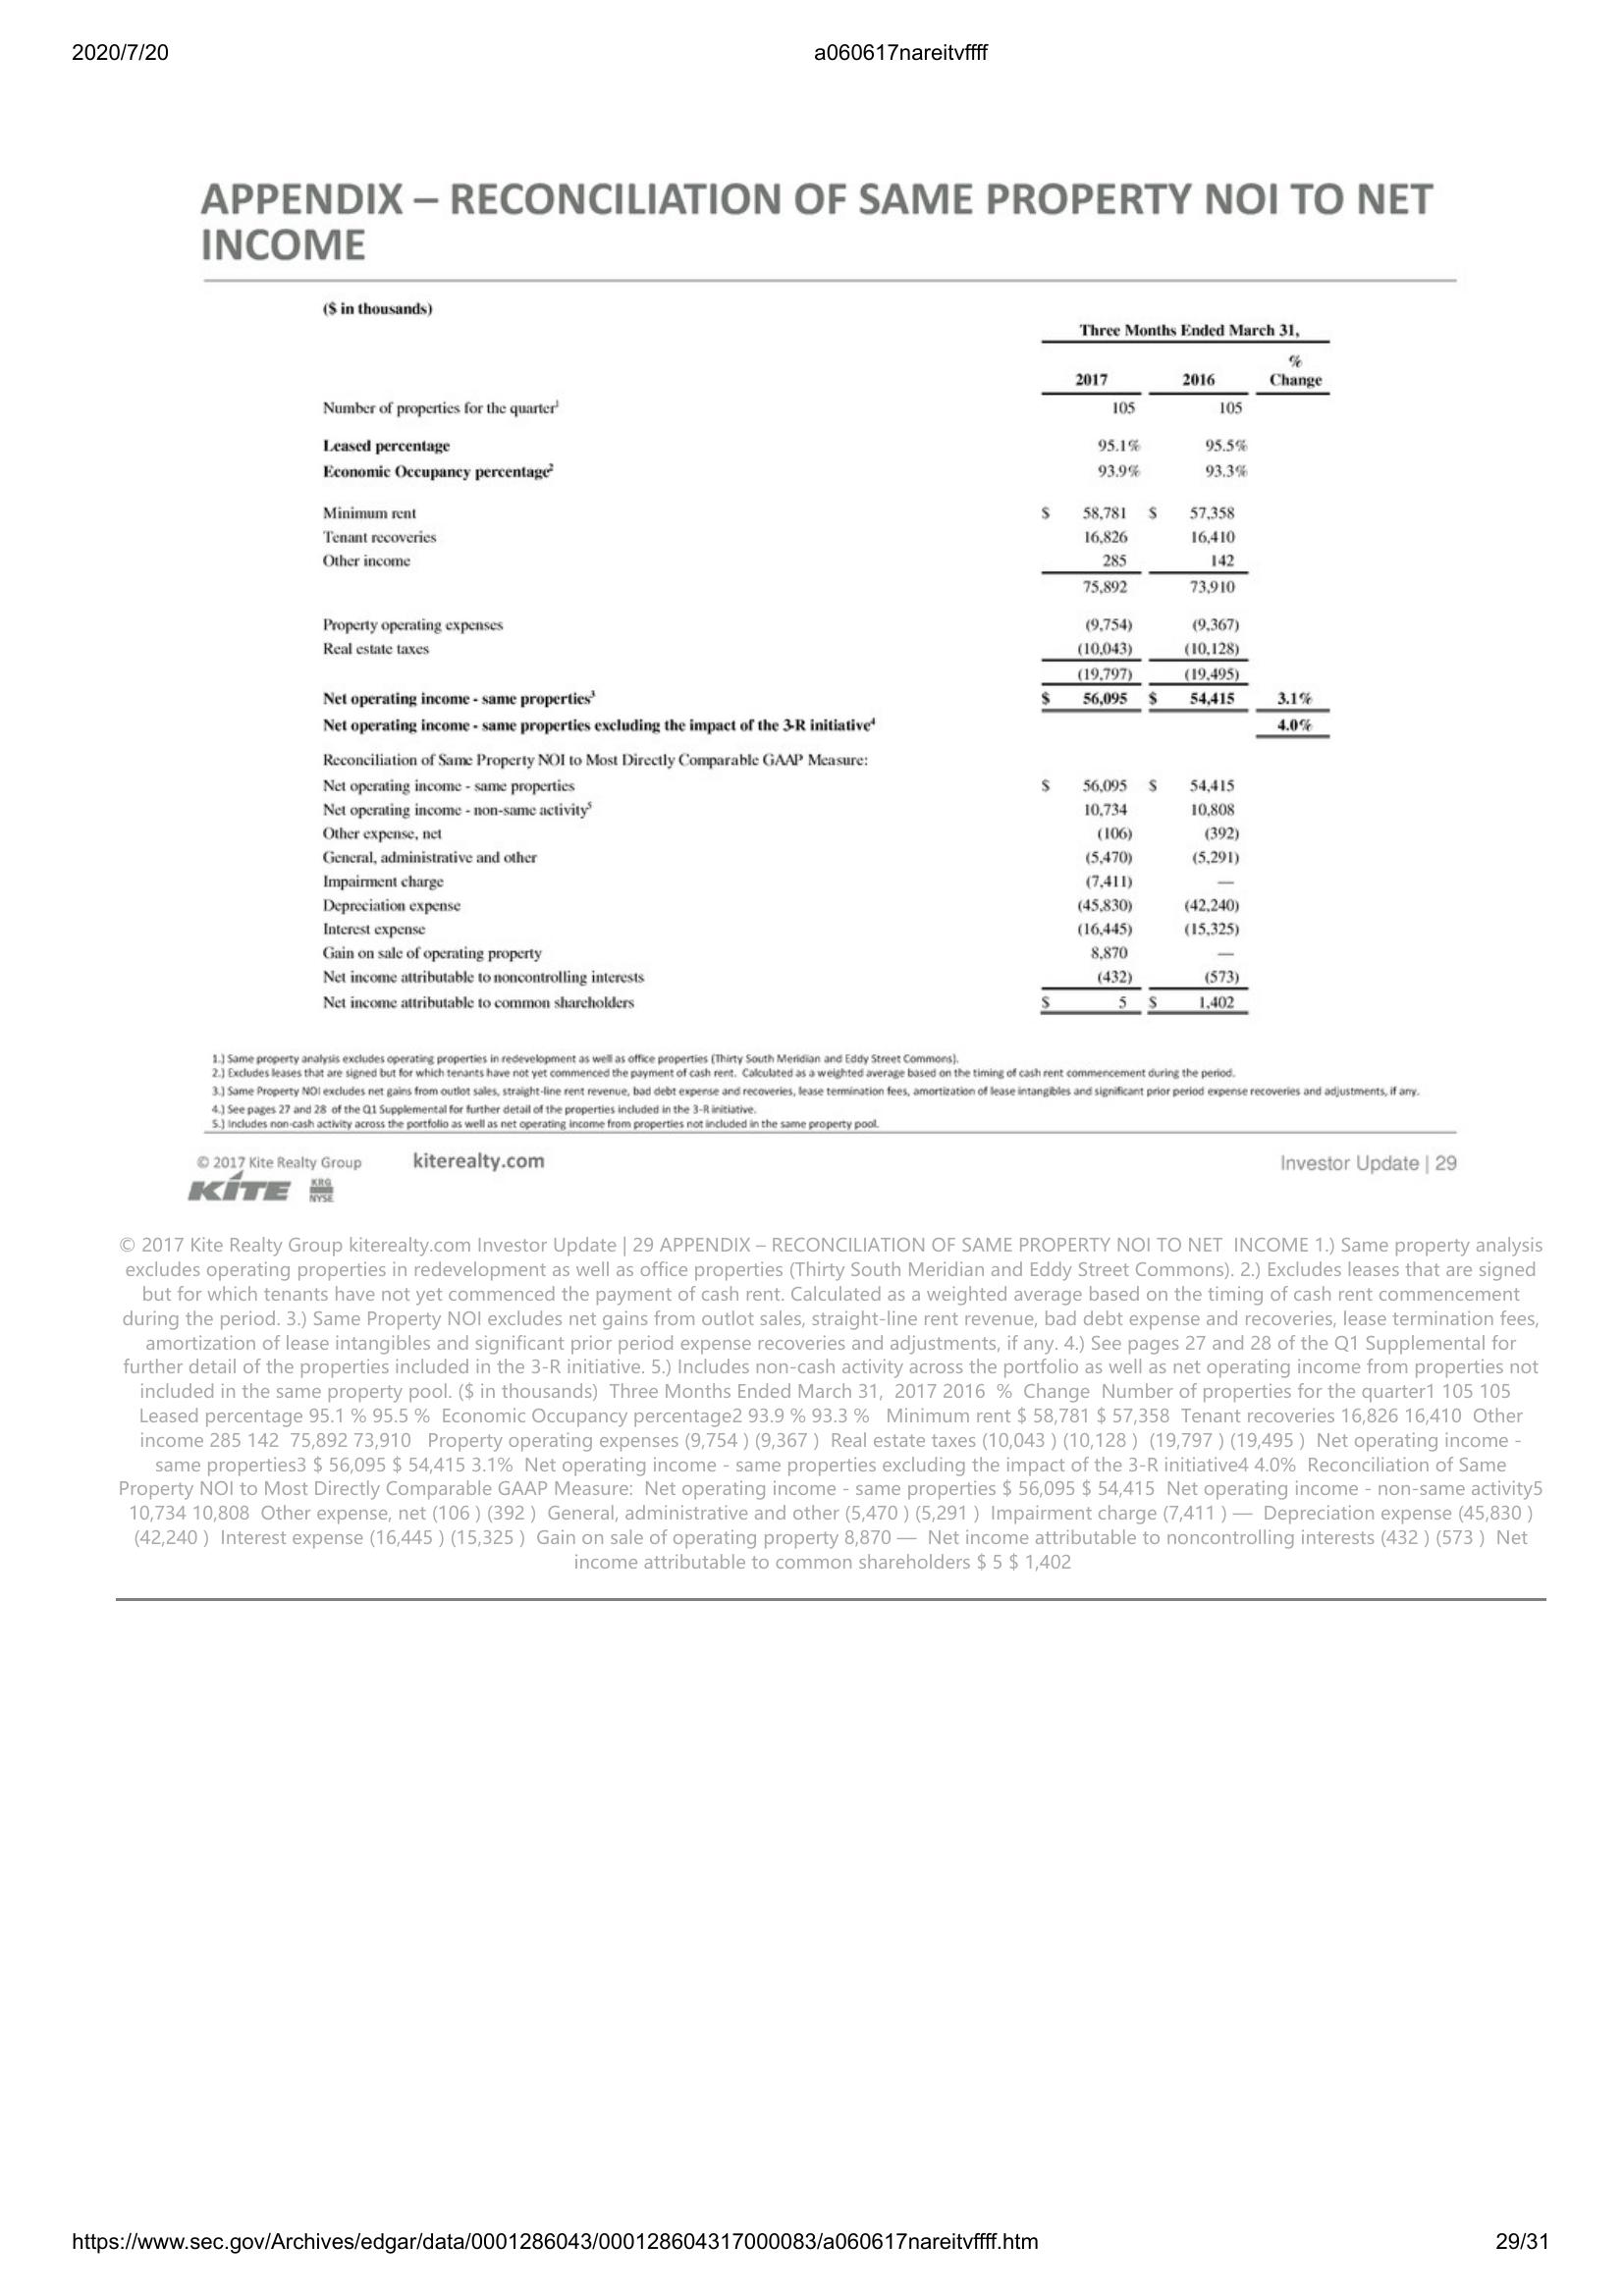table: (311, 295, 1345, 1032)
